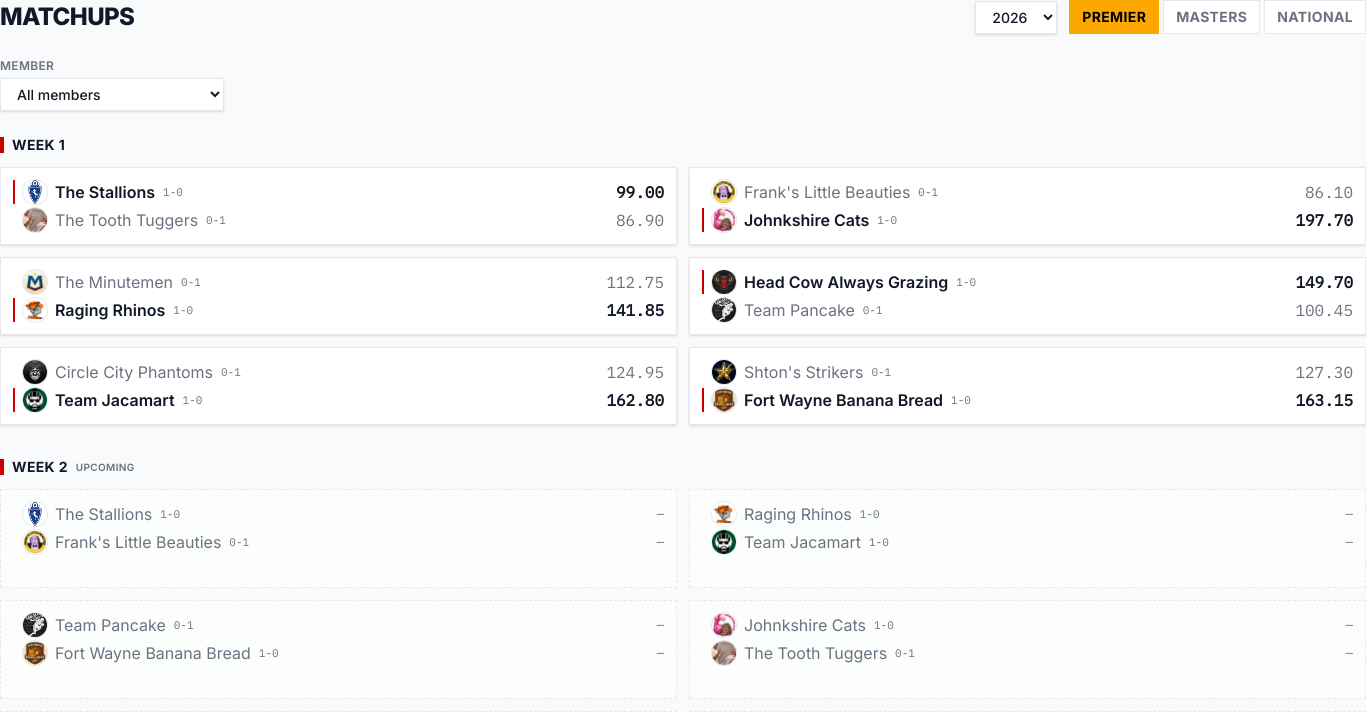
Test: opens the live box score from an unplayed fixture
Expected: the text "Upcoming" is shown, [76,460,135,474]
Click the button "The Stallions 1-0 — Frank's Little Beauties 0-1 —" at (104, 514), box [0,489,677,588]
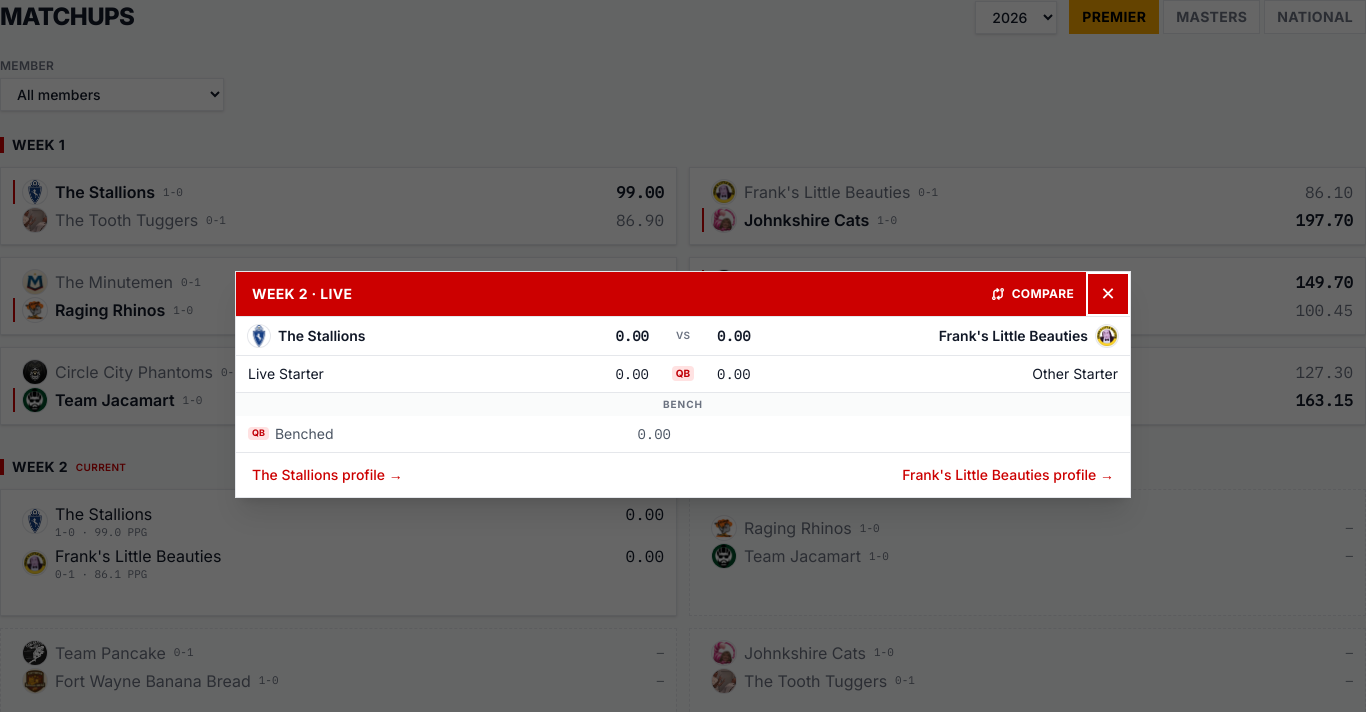
Expected: the text "Week 2 · Live" is shown, [252,284,352,304]
Expected: the text "Live Starter" is shown, [248,364,324,384]
Expected: the text "Benched" is shown, [275,424,334,444]
